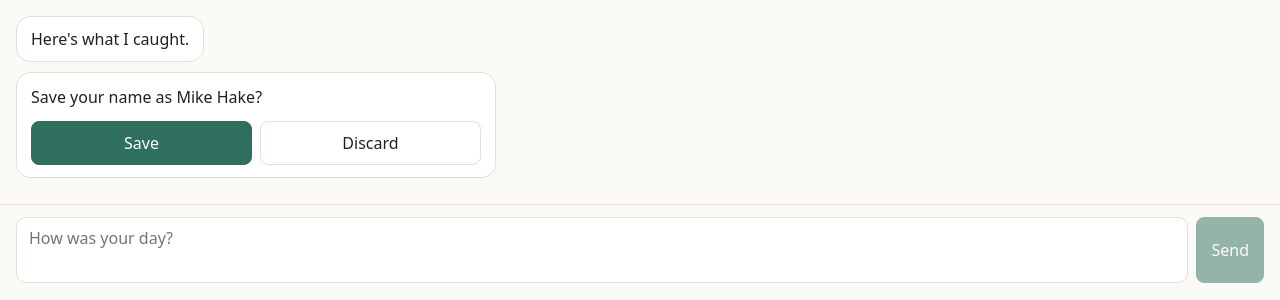
confirmation cards › saves a name by reference and shows it saved
The width and height of the screenshot is (1280, 300).
Expected: the text "Save your name as Mike Hake?" is shown, [31,86,262,108]
Click the button "Save" at (142, 143), box [31,121,252,165]
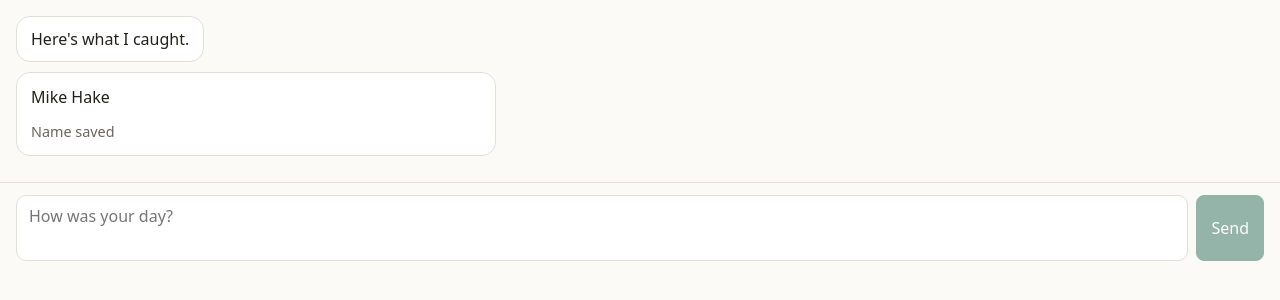
Expected: the text "Mike Hake" is shown, [31,86,110,108]
Now the text "Name saved" is shown, box [31,122,115,141]
